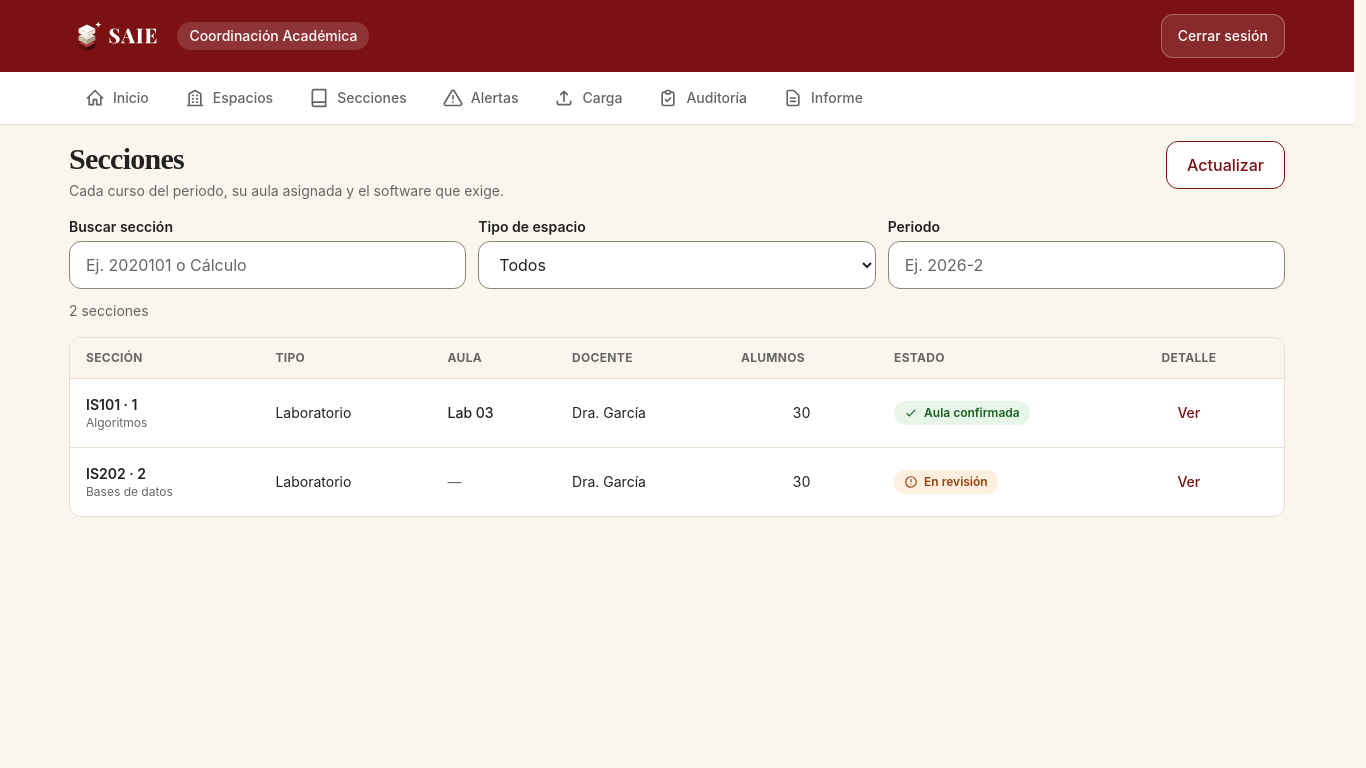
it: Gestión individual de secciones (Issue 4.31) › cerrar el panel de detalle lo oculta
Click the button with aria-label "Ver detalle de IS101 1": (1189, 413) [1161,391,1216,435]
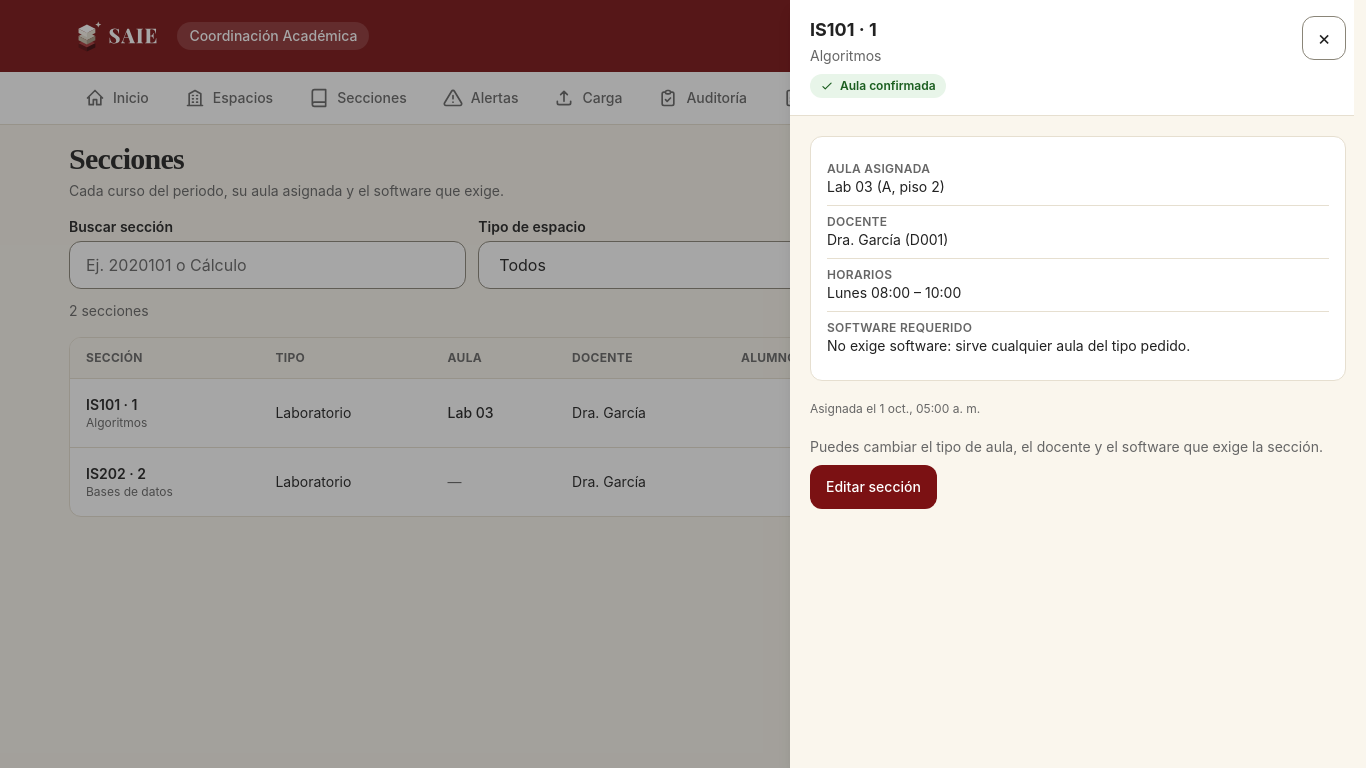
Click the button named "Cerrar": (1324, 38) [1302,16,1346,60]
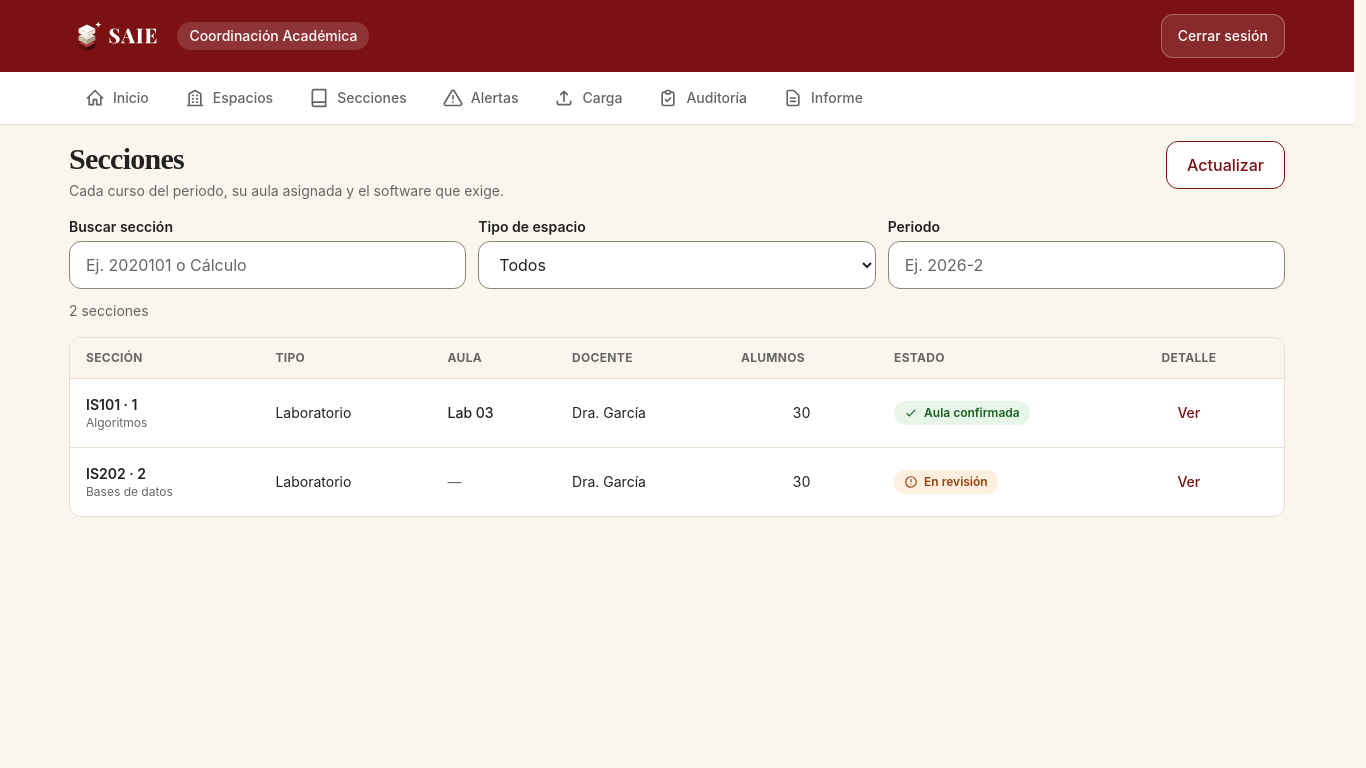
Check: the dialog is gone
